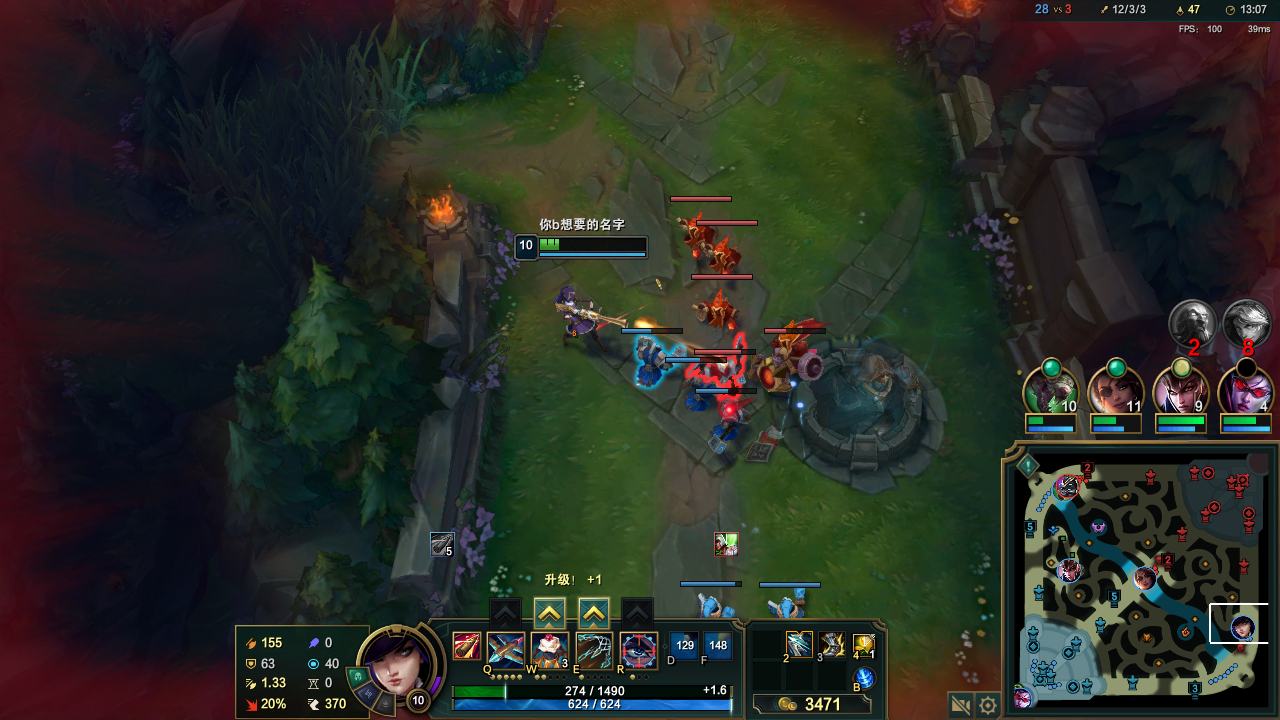DFXB: (758, 333, 814, 379), (695, 292, 736, 327), (707, 238, 739, 267), (707, 362, 740, 387), (681, 219, 707, 241)
Shenji: (584, 603, 603, 628), (539, 605, 562, 624)
WFXB: (635, 341, 673, 391), (707, 406, 742, 439), (684, 369, 710, 405), (697, 590, 729, 612), (772, 598, 804, 620)
